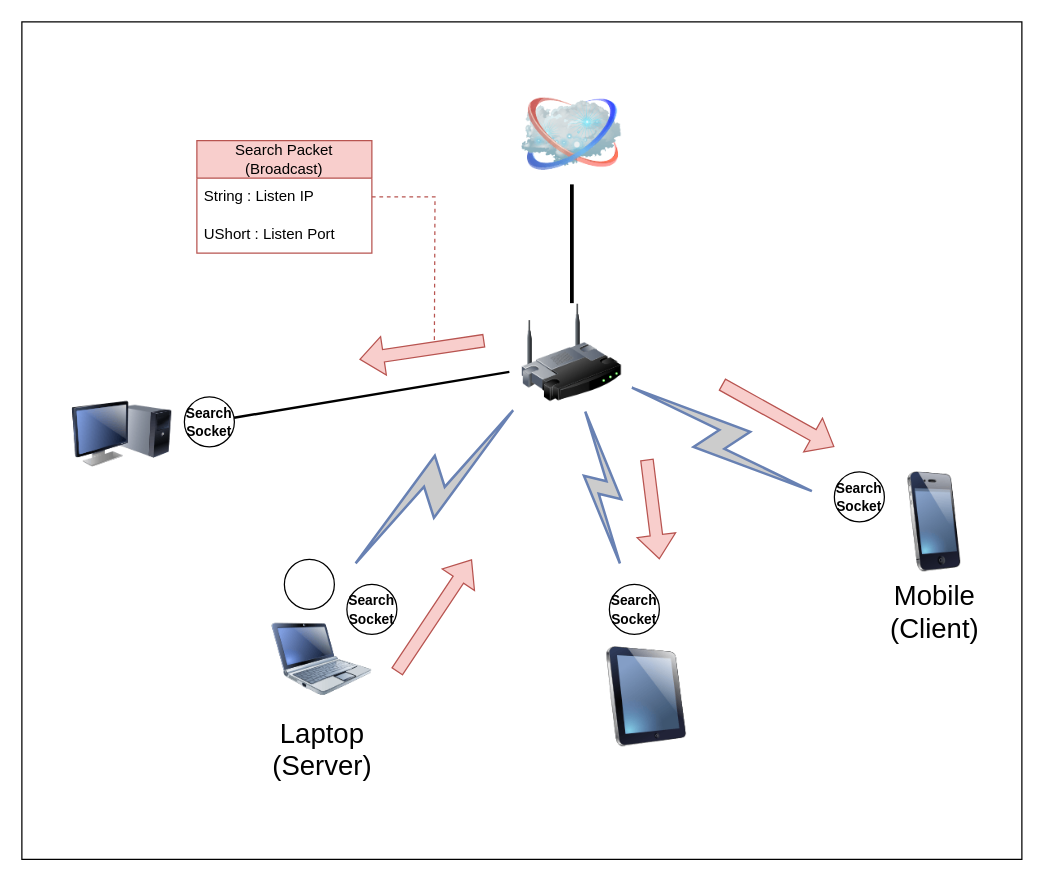
This 1044x881 diagram has some shape labels left out. Here are the shapes that lost their labels. From the top down, the centre of each, then its label:
At [571,134]: "Internet".
At [121,434]: "PC (Client)".
At [308,583]: "Listen Socket".
At [646,696]: "Tablet (Client)".
